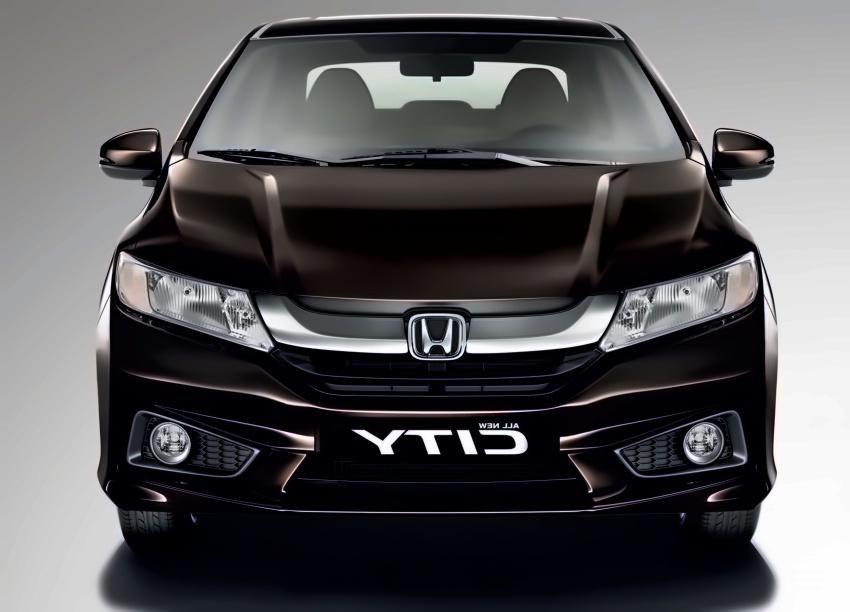Car hood: (110, 153, 750, 305)
Front bumper: (88, 296, 788, 549)
Headlight - -L-: (598, 251, 759, 358)
Headlight - -R-: (116, 247, 274, 355)
Side mirror - -L-: (706, 121, 776, 195)
Side mirror - -R-: (102, 124, 165, 191)
